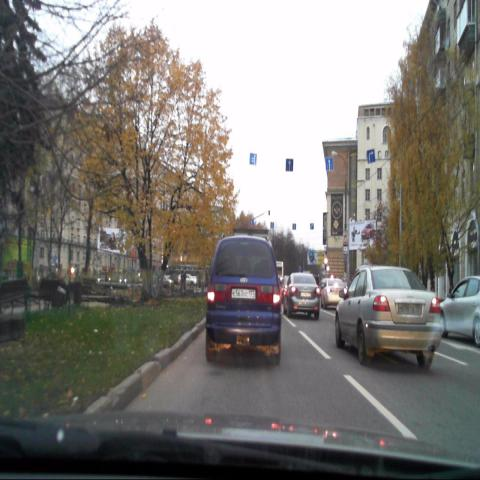5_15_2: (367, 149, 375, 163), (326, 157, 333, 171), (286, 159, 293, 171), (249, 153, 256, 164)
